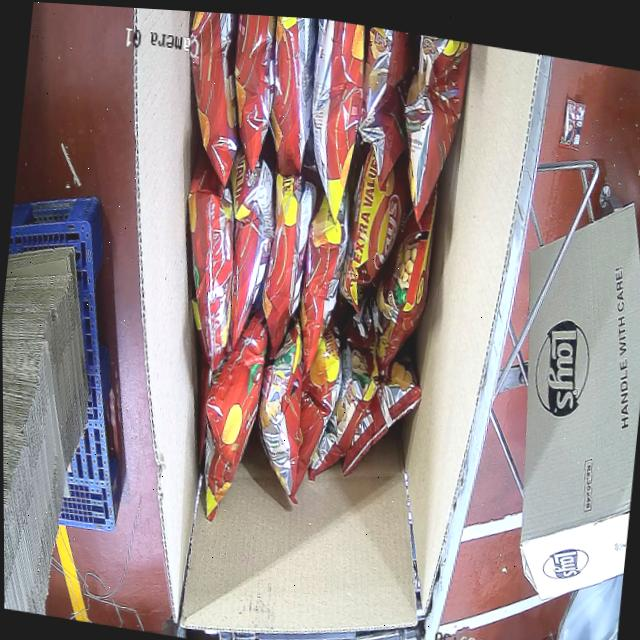MASALA: (138, 8, 474, 557)
